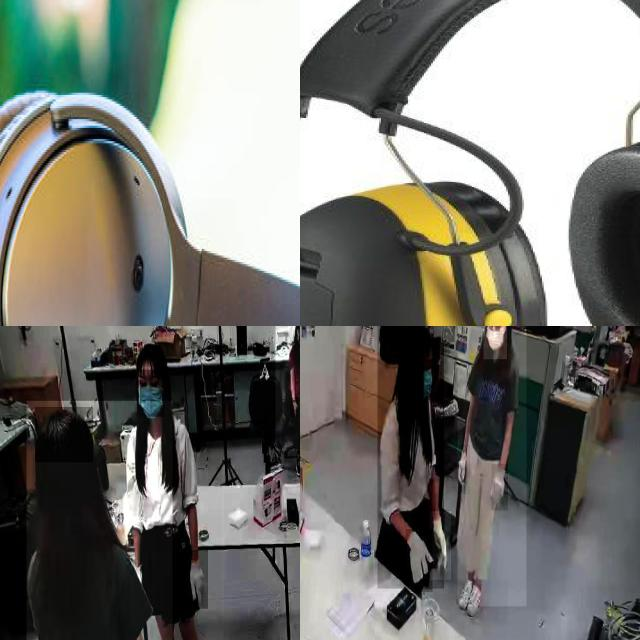Ear-protection: (0, 71, 300, 326), (300, 178, 549, 326), (563, 130, 640, 326)
face_mask: (140, 369, 165, 416), (413, 359, 439, 402), (483, 326, 506, 359)
face_nomask: (296, 326, 300, 342)
hand_glove: (405, 529, 433, 593), (429, 511, 452, 581), (190, 550, 208, 610), (492, 464, 508, 511), (458, 445, 470, 495)
hand_noglove: (290, 398, 298, 418), (298, 335, 300, 348)
head_nohelmet: (35, 407, 93, 463), (134, 342, 168, 368), (400, 326, 430, 340)
person: (26, 400, 173, 640), (110, 339, 221, 640), (457, 326, 526, 607), (377, 326, 444, 589), (275, 326, 300, 451)
shoes: (454, 577, 474, 613), (465, 579, 481, 621), (291, 450, 300, 480)
